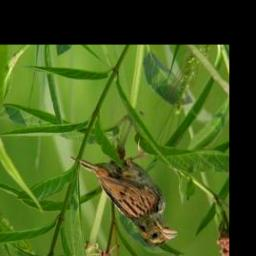Sparrow: (67, 134, 180, 249)
